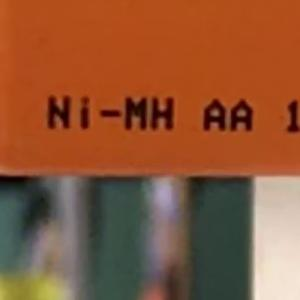keyword: (37, 88, 183, 139)
